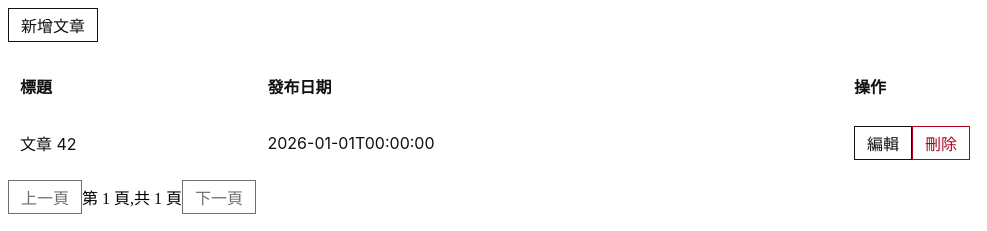
Test: ArticlesList › 刪除確認互動(SDLCAIP1-14) › SDLCAIP1-14 AC3: API 回 404 時視為已不存在,從列表移除並顯示非阻斷提示
The width and height of the screenshot is (987, 231).
Expected: the text "文章 42" is shown, [8,118,256,168]
Click the button with test id "delete-article-42" at (941, 143), box [912,126,970,160]
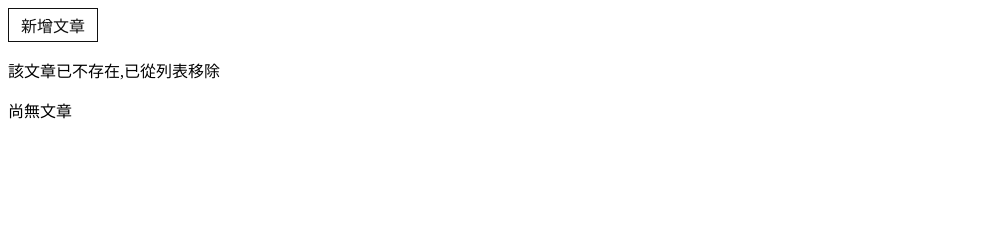
Expected: the text "尚無文章" is shown, [8,103,72,120]
Expected: the message reads "該文章已不存在,已從列表移除", [8,63,220,80]
